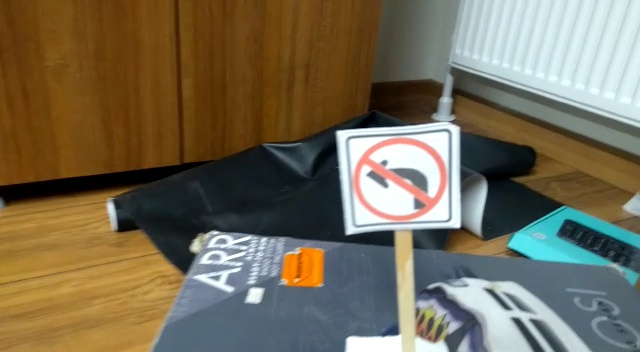sola_donulmez: (350, 129, 453, 228)
